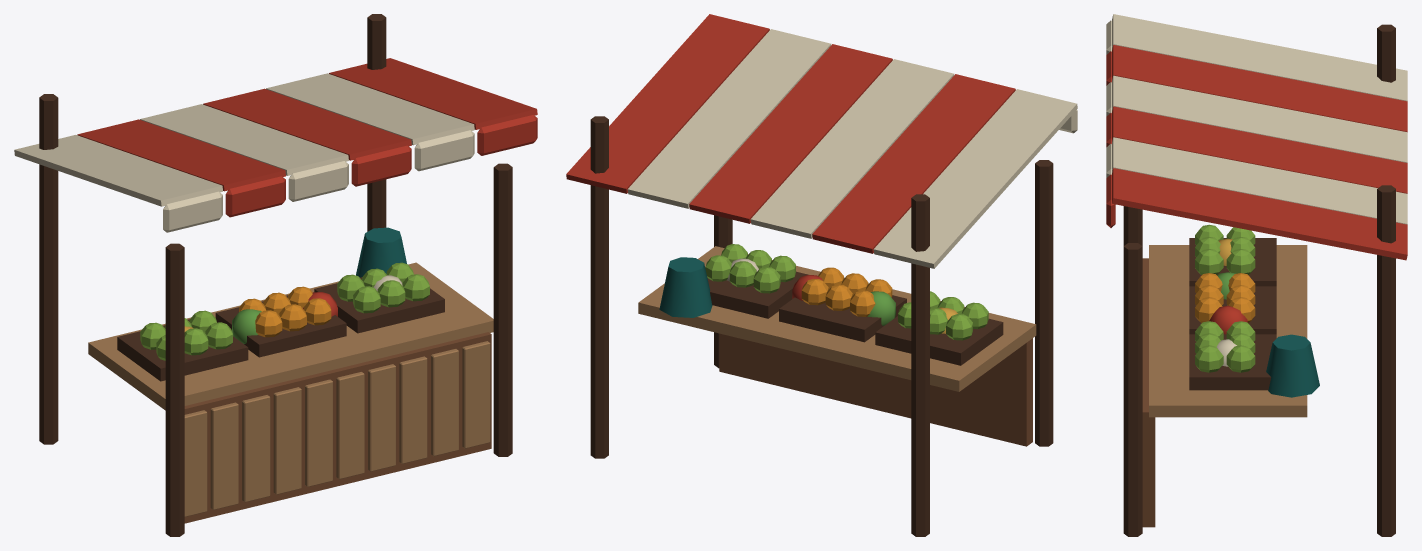
The model's file is market_stall.glb.
The picture shows the model from 3 angles, left to right: view 1: azimuth 30°, elevation 25°; view 2: azimuth 150°, elevation 25°; view 3: azimuth 270°, elevation 25°; orthographic projection. The views are drawn at different scales.
Parts seen in each view (by area): view 1: Stall; view 2: Stall; view 3: Stall.
Part boxes in pixels (x1,y1,x2,y2): Stall: (14, 14, 537, 536); Stall: (566, 14, 1077, 536); Stall: (1106, 14, 1407, 536).
Size of what is drawn, in the model's own units: 2.75 by 2.42 by 1.9.
